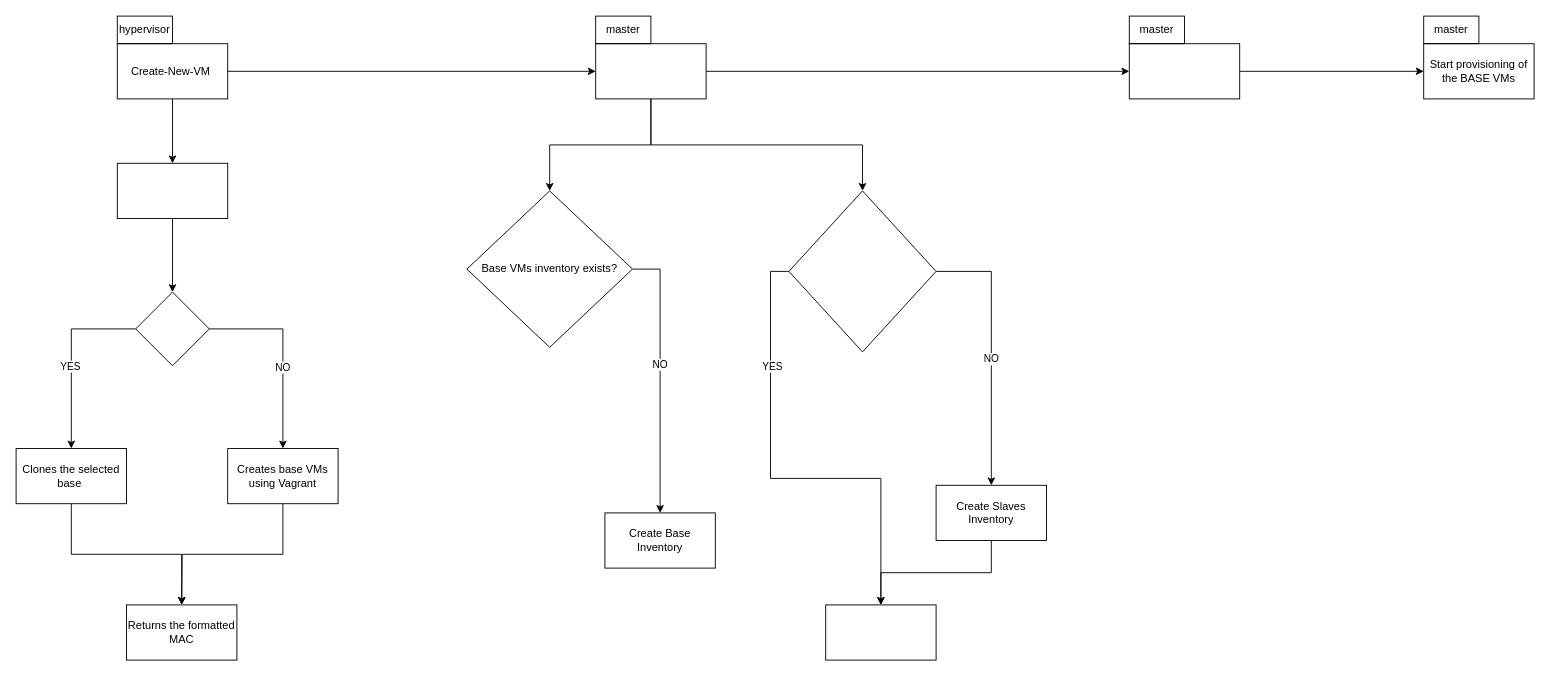
The diagram is 1550 pixels wide and 676 high, and some of its shapes have lost their labels. Here are the shapes that lost their labels. From the top down, the centre of each, then its label:
At (x=650, y=71): "Update the inventories".
At (x=1184, y=71): "Copy SSH keys to on all base and slave nodes".
At (x=172, y=190): "Check Base VMs".
At (x=862, y=271): "Slaves VMs inventory exists?".
At (x=172, y=328): "Base VMs exist?".
At (x=880, y=632): "Add New Host".
